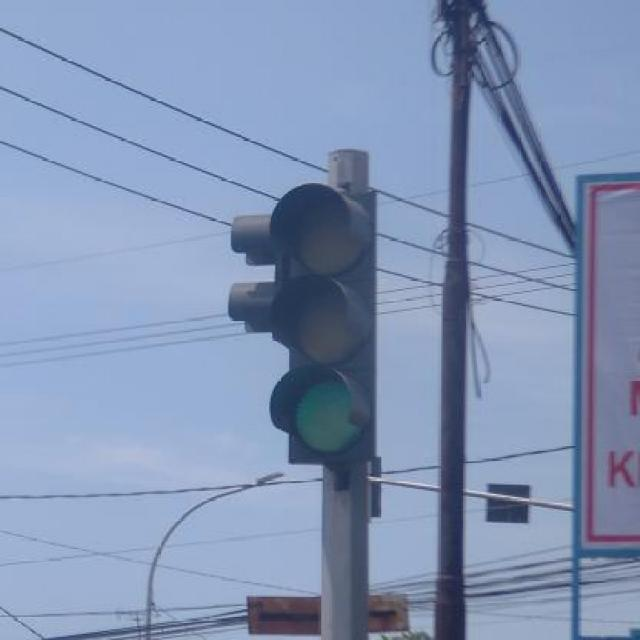traffic light: (274, 186, 382, 465)
